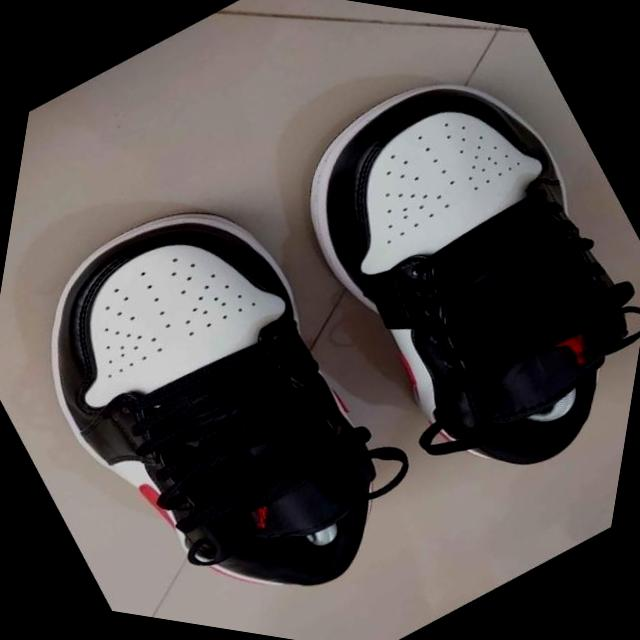nike_fake_jordan: (0, 126, 493, 640), (213, 7, 640, 540)
